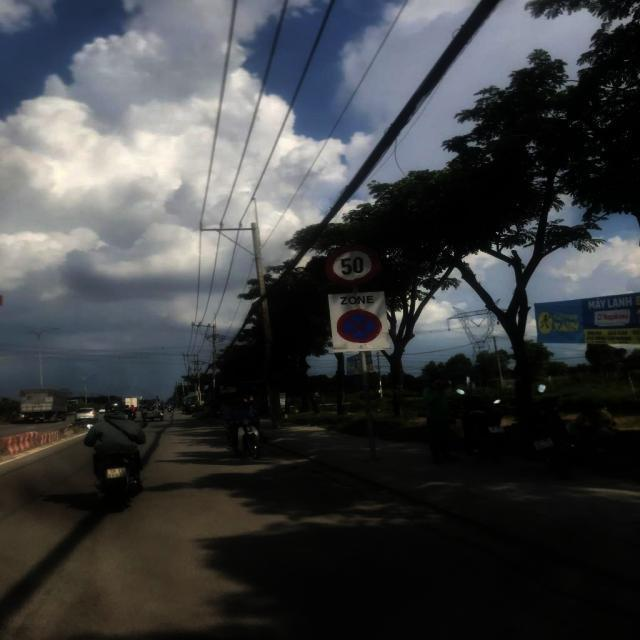127-toc-do-toi-da-50: (325, 244, 379, 286)
130-cam-dung-va-do-xe: (336, 308, 382, 344)
